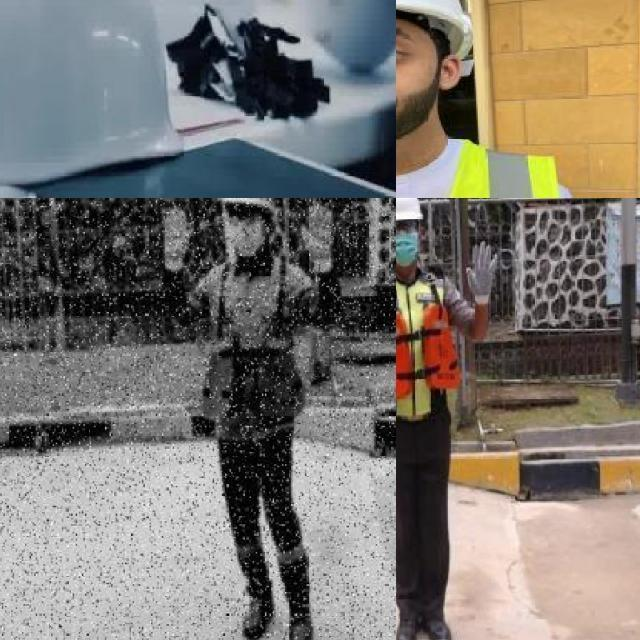apron: (298, 200, 335, 274), (464, 238, 499, 306), (161, 205, 192, 273)
